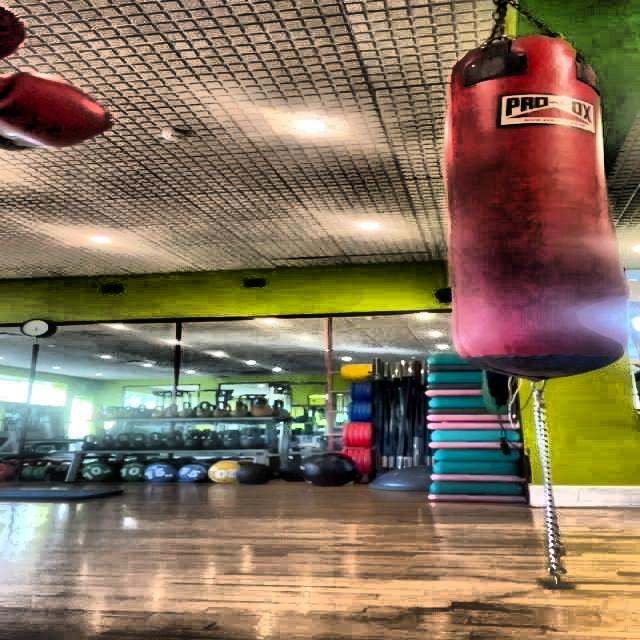boxing-bag: (451, 7, 625, 385)
